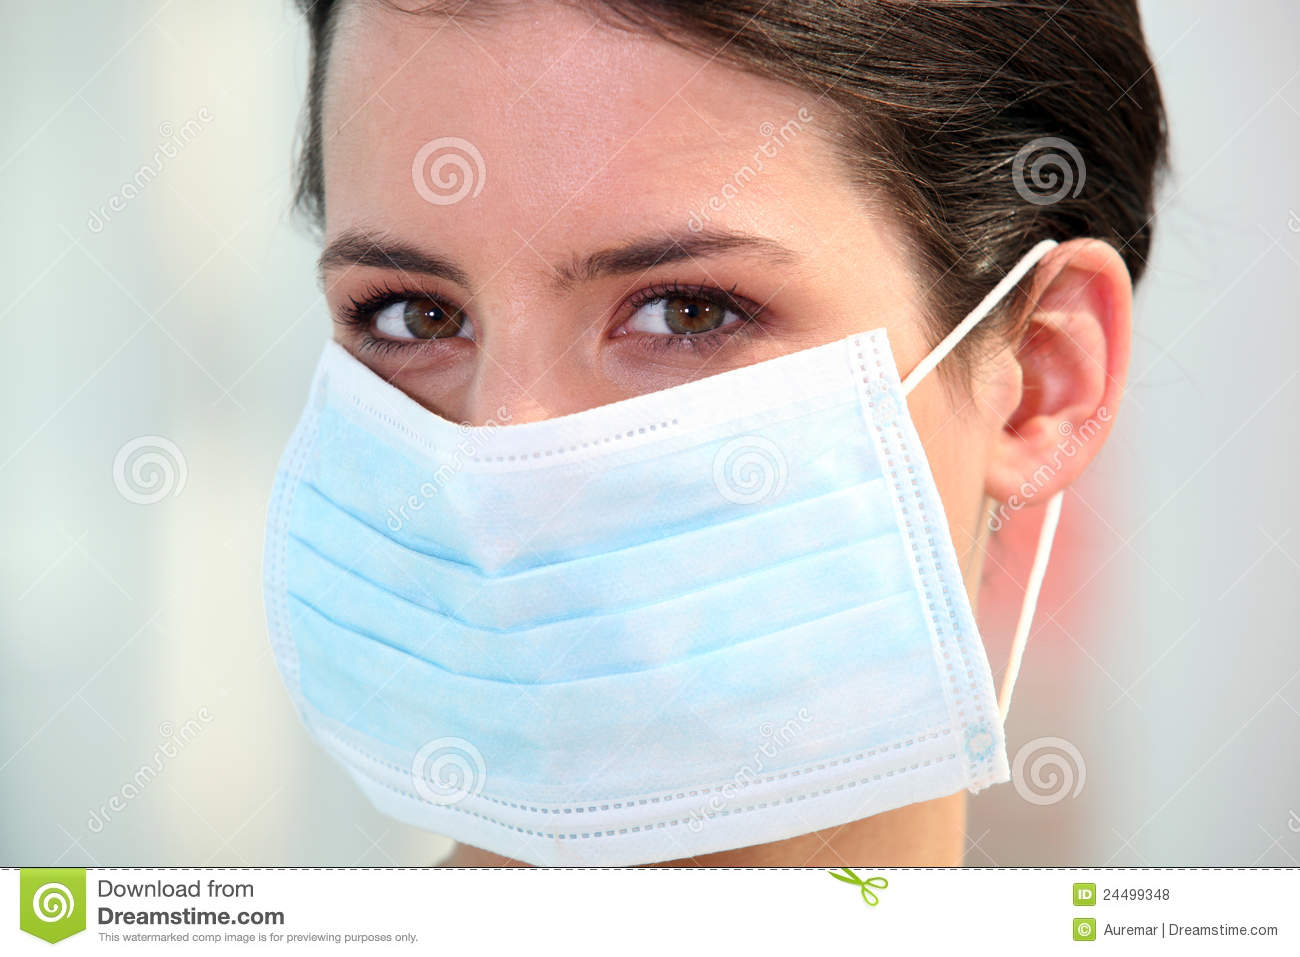mask: (264, 357, 998, 789)
